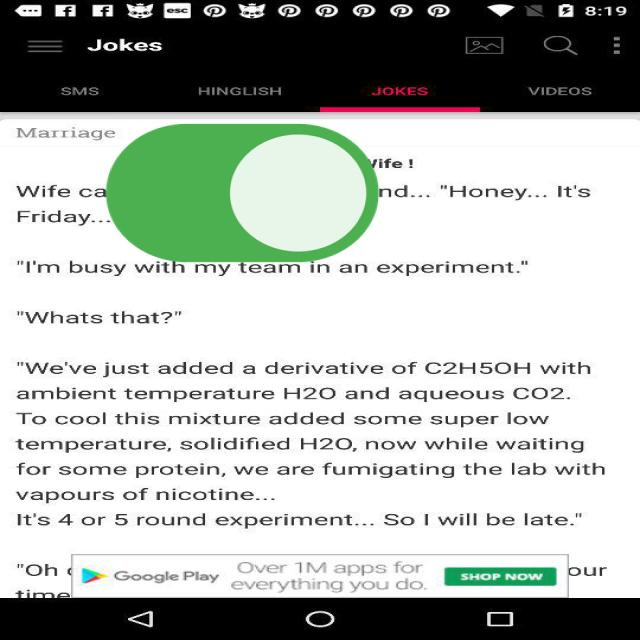social proof: (94, 71, 391, 326)
